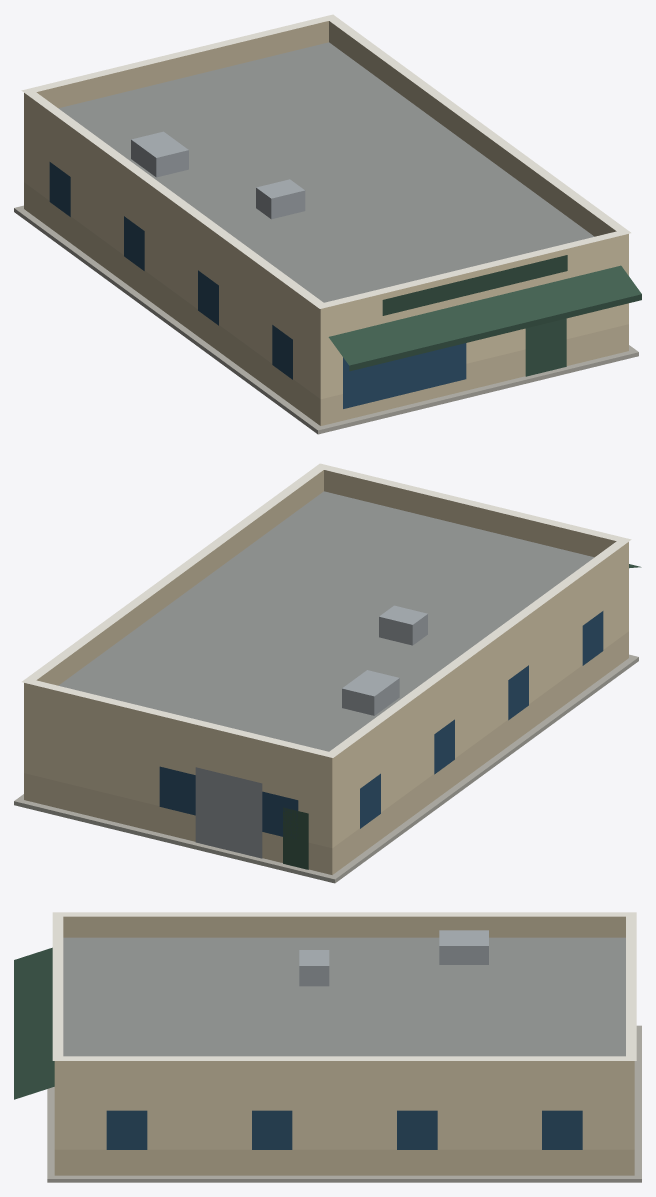
File: store_12x20_lod1.glb
3 renders of one model, top to bottom at view 1: azimuth 30°, elevation 25°; view 2: azimuth 150°, elevation 25°; view 3: azimuth 270°, elevation 25°, orthographic. The views are drawn at different scales.
Visible parts, largest first — view 1: block; view 2: block; view 3: block.
Boxes of the visible parts, box(x1,y1,x2,y2) form: block: box(14, 14, 641, 434); block: box(14, 463, 641, 883); block: box(14, 912, 641, 1182).
Bounding box in the file's own units: 12.5 × 4.55 × 21.65.
